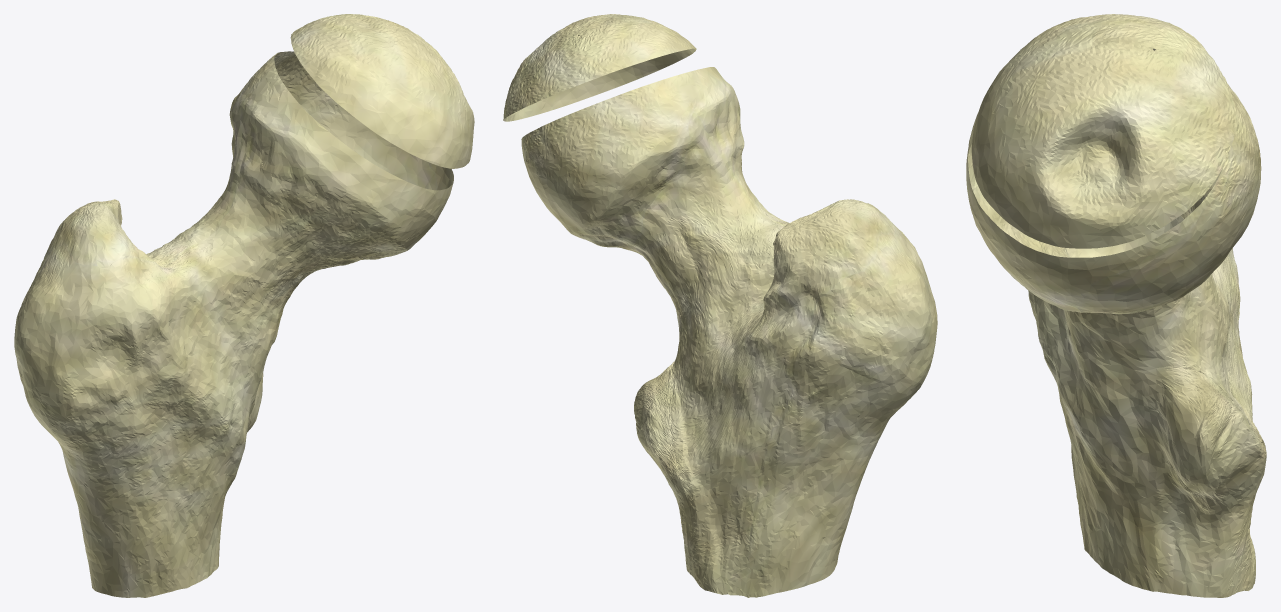
The model's file is subcapitalFracture.fbx.
3 renders of one model, left to right at view 1: azimuth 30°, elevation 25°; view 2: azimuth 150°, elevation 25°; view 3: azimuth 270°, elevation 25°, orthographic. The views are drawn at different scales.
Visible parts, largest first — view 1: UnknownTop, head, greater trochanter, head.001, neck; view 2: UnknownTop, head, greater trochanter, neck, head.001, lesser trochanter; view 3: head.001, UnknownTop, head, lesser trochanter, neck, greater trochanter.
Part boxes in pixels (box(x1,y1,x2,y2)): UnknownTop: box(52, 208, 275, 597); head: box(229, 51, 453, 259); greater trochanter: box(14, 199, 150, 443); head.001: box(290, 14, 474, 168); neck: box(176, 135, 361, 339); UnknownTop: box(669, 222, 900, 597); head: box(521, 67, 740, 243); greater trochanter: box(774, 199, 937, 409); neck: box(595, 127, 787, 326); head.001: box(503, 14, 696, 121); lesser trochanter: box(634, 365, 675, 486); head.001: box(971, 14, 1235, 248); UnknownTop: box(1028, 214, 1266, 597); head: box(966, 48, 1261, 314); lesser trochanter: box(1149, 371, 1265, 510); neck: box(1014, 168, 1222, 338); greater trochanter: box(1066, 182, 1153, 257).
Bounding box in the file's own units: 162 × 185 × 77.12.
